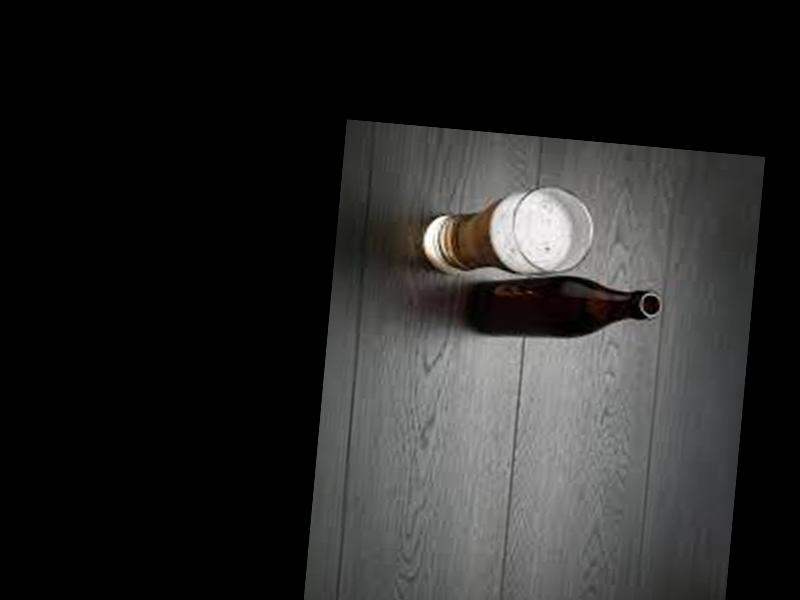Beer: (458, 265, 665, 352)
